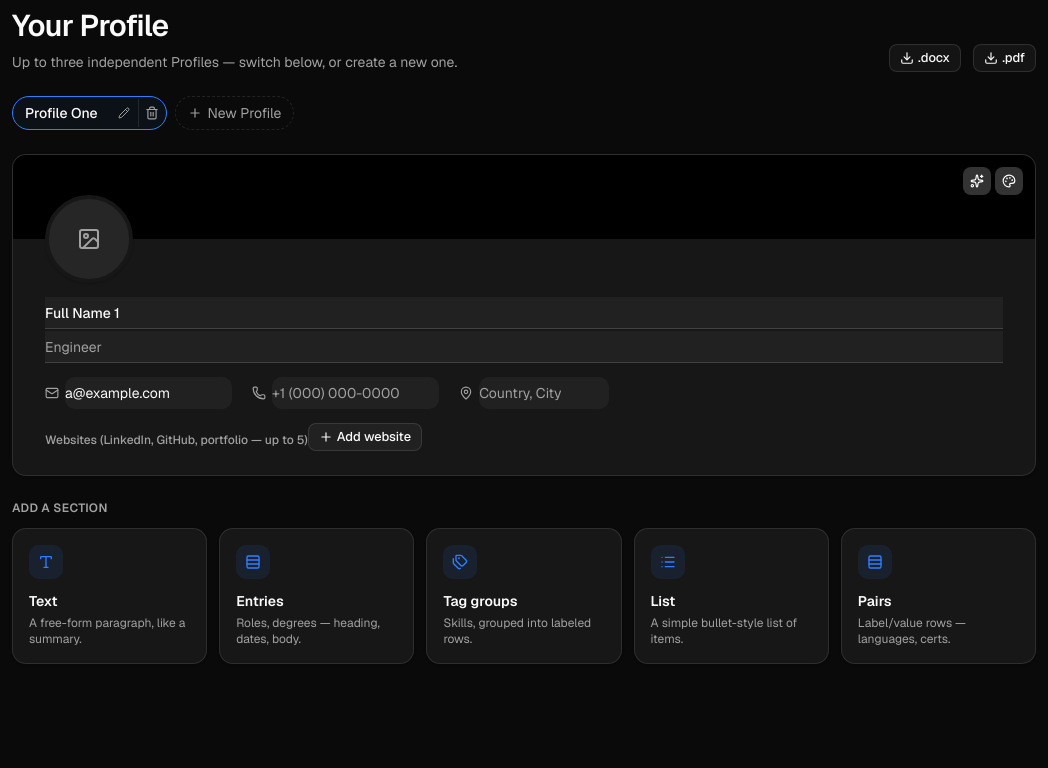
Test: ProfileWorkspace › lets the user open the entry screen from an existing Profile, and cancel back
Click the button "New Profile" at (234, 113), box [175, 96, 294, 130]
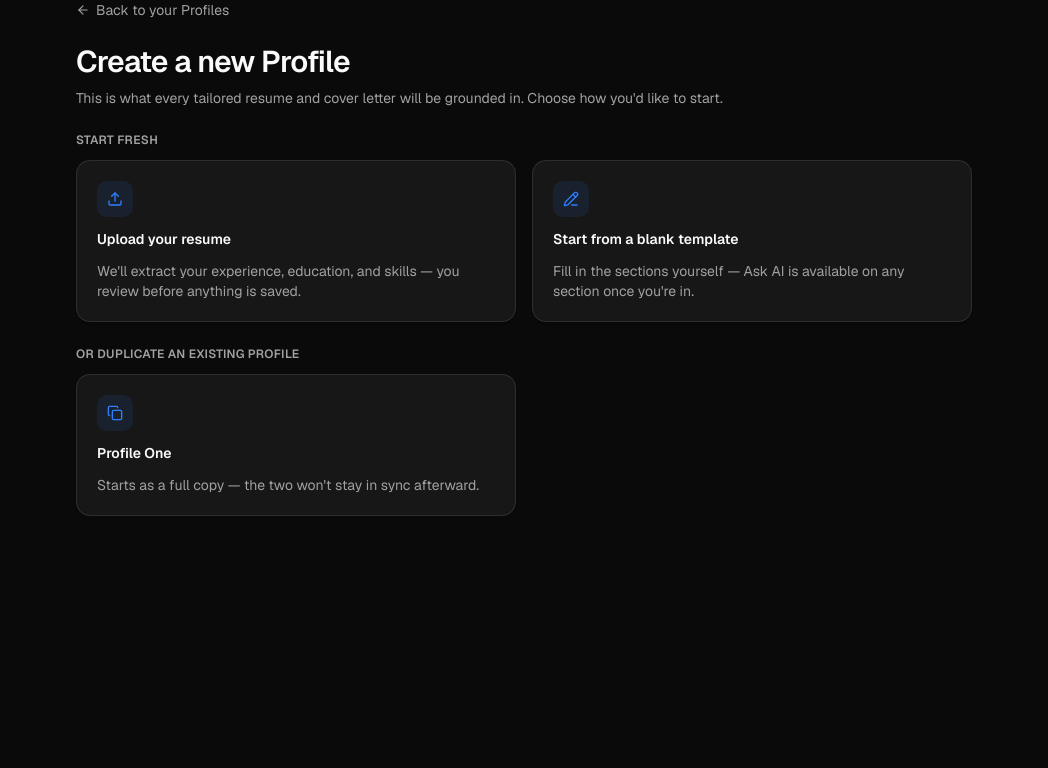
expect the heading "Create a new Profile" is shown: met, box [76, 42, 350, 81]
Click the button "Back to your Profiles" at (153, 10), box [76, 0, 229, 20]
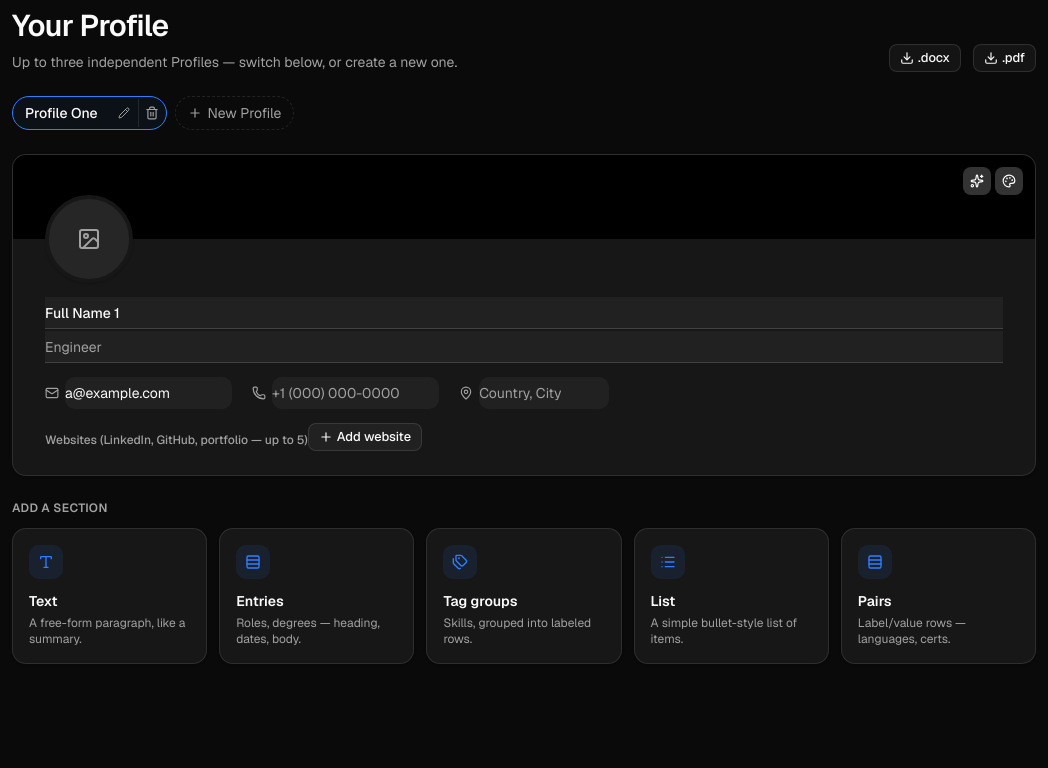
expect the heading "Your Profile" is shown: met, box [12, 6, 168, 45]
